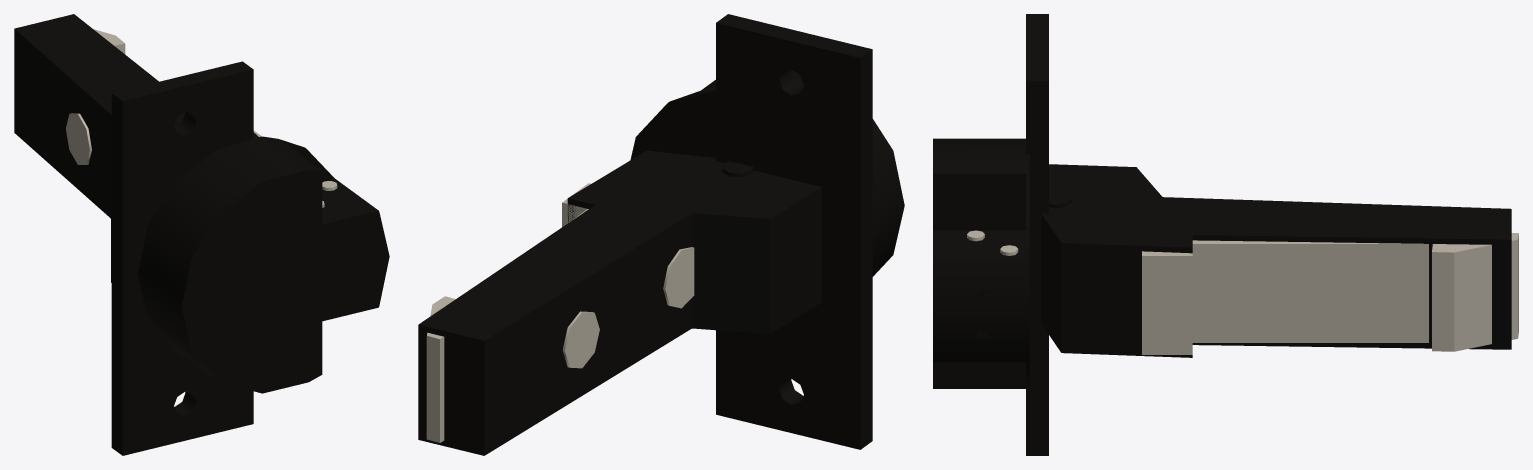
3 renders of one model, left to right at view 1: azimuth 30°, elevation 25°; view 2: azimuth 150°, elevation 25°; view 3: azimuth 270°, elevation 25°, orthographic. The views are drawn at different scales.
Visible parts, largest first — view 1: bau0015089612-1, bau0015112169-1; view 2: bau0015112169-1, bau0015089612-1, bau0019416036-1; view 3: bau0015112169-1, bau0019416036-1, bau0015089612-1.
Boxes of the visible parts, x1,y1,x2,y2 form: bau0015089612-1: (111,61,389,455); bau0015112169-1: (14,14,258,282); bau0015112169-1: (418,150,821,455); bau0015089612-1: (630,14,904,449); bau0019416036-1: (426,183,590,442); bau0015112169-1: (1041,164,1511,357); bau0019416036-1: (1142,233,1518,354); bau0015089612-1: (933,14,1048,455).
Bounding box in the file's own units: 37.5 × 57 × 80.78.
